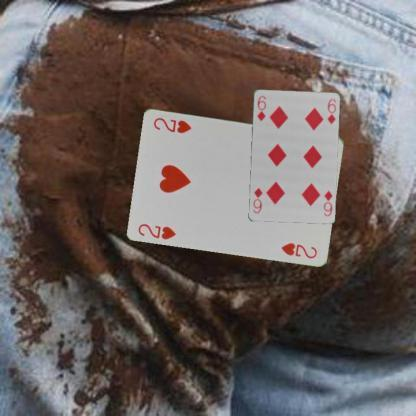2h: (136, 220, 178, 240)
6d: (322, 188, 334, 217), (255, 93, 266, 122)
